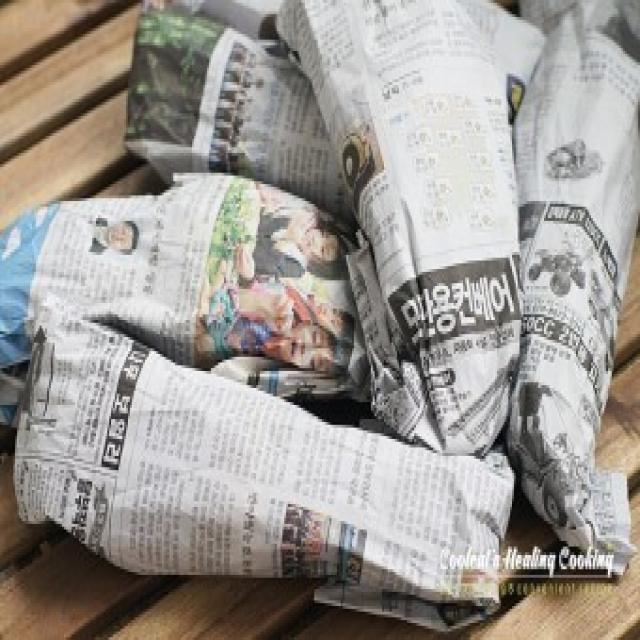reuseable_paper: (44, 300, 518, 588), (330, 0, 538, 416), (15, 198, 385, 406)
